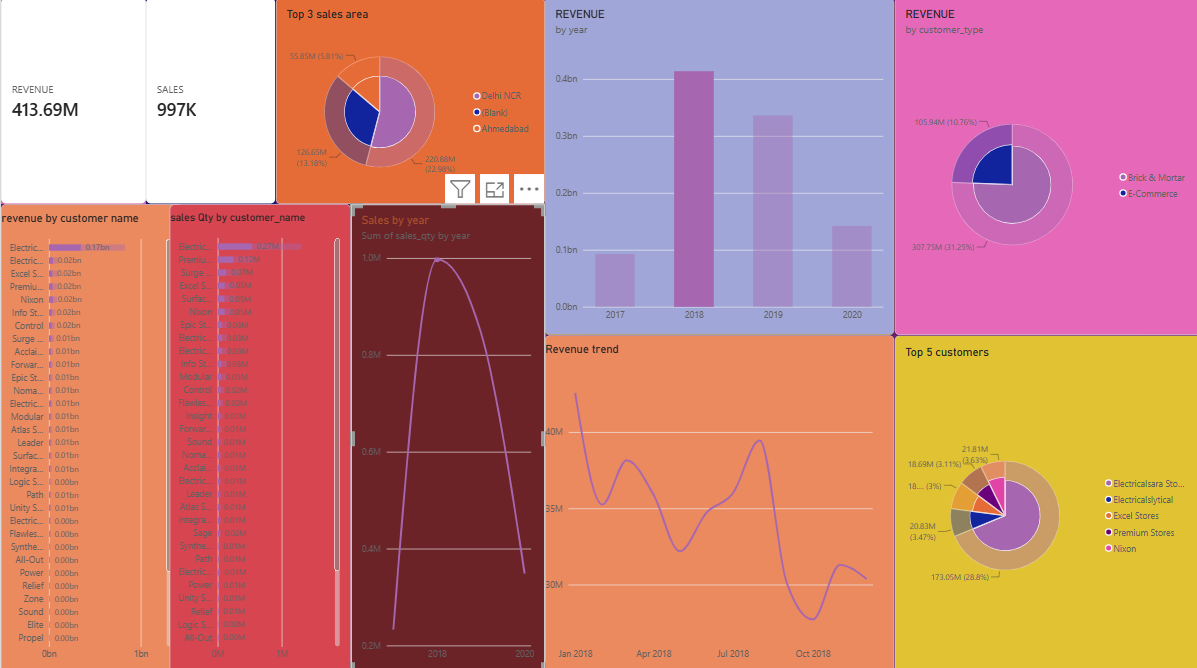

Layout of this report page (visuals, bound fields, positions):
{"tool":"powerbi","page":{"name":"Page 1","canvas":[1920,1080],"ordinal":0},"visuals":[{"type":"cardVisual","fields":{"Data":["MEASURES (2).REVENUE"]},"box":[0,0,232.6,329.3],"z":500},{"type":"cardVisual","fields":{"Data":["MEASURES (2).QUANTITY"]},"box":[232.6,0,207.9,329.3],"z":501},{"type":"barChart","title":"revenue by customer name","fields":{"Category":["sales customers.custmer_name"],"Y":["MEASURES (2).REVENUE"]},"box":[0,329.3,290.2,751.3],"z":502},{"type":"barChart","title":"sales Qty by customer_name","fields":{"Category":["sales customers.custmer_name"],"Y":["MEASURES (2).QUANTITY"]},"box":[269.6,329.4,289.5,751],"z":503},{"type":"columnChart","fields":{"Category":["sales date.year"],"Y":["MEASURES (2).REVENUE"]},"box":[870.4,0,559.2,539.3],"z":504},{"type":"lineChart","title":"Revenue trend","fields":{"Category":["sales date.cy_date.Variation.Date Hierarchy.Year","sales date.cy_date.Variation.Date Hierarchy.Quarter","sales date.cy_date.Variation.Date Hierarchy.Month","sales date.cy_date.Variation.Date Hierarchy.Day"],"Y":["MEASURES (2).REVENUE"]},"box":[870.4,539.3,559.2,541.1],"z":505},{"type":"pieChart","fields":{"Category":["sales customers.customer_type"],"Y":["MEASURES (2).REVENUE"]},"box":[1429.6,0,490.4,539.3],"z":506},{"type":"pieChart","title":"Top 5 customers","fields":{"Category":["sales customers.custmer_name"],"Y":["MEASURES (2).REVENUE"]},"box":[1429.6,539.3,490.4,541.1],"z":507},{"type":"pieChart","title":"Top 3 sales area","fields":{"Category":["sales markets.markets_name"],"Y":["Sum(sales transactions.sales_amount)"]},"box":[440.5,0,430.2,329.3],"z":508},{"type":"lineChart","title":"Sales by year","fields":{"Category":["sales date.year"],"Y":["Sum(sales transactions.sales_qty)"]},"box":[559.9,329.3,310.8,751.3],"z":509}]}

Visuals, with their boxes in screenshot pixels (x1, y1, x2, y2), scaled from the page's 1920x1080 canvas onto the 1197x668 screenshot:
cardVisual - MEASURES (2).REVENUE: 0/0/145/204
cardVisual - MEASURES (2).QUANTITY: 145/0/275/204
"revenue by customer name" barChart: 0/204/181/667
"sales Qty by customer_name" barChart: 168/204/349/667
columnChart - sales date.year x MEASURES (2).REVENUE: 543/0/891/334
"Revenue trend" lineChart: 543/334/891/667
pieChart - sales customers.customer_type x MEASURES (2).REVENUE: 891/0/1196/334
"Top 5 customers" pieChart: 891/334/1196/667
"Top 3 sales area" pieChart: 275/0/543/204
"Sales by year" lineChart: 349/204/543/667
